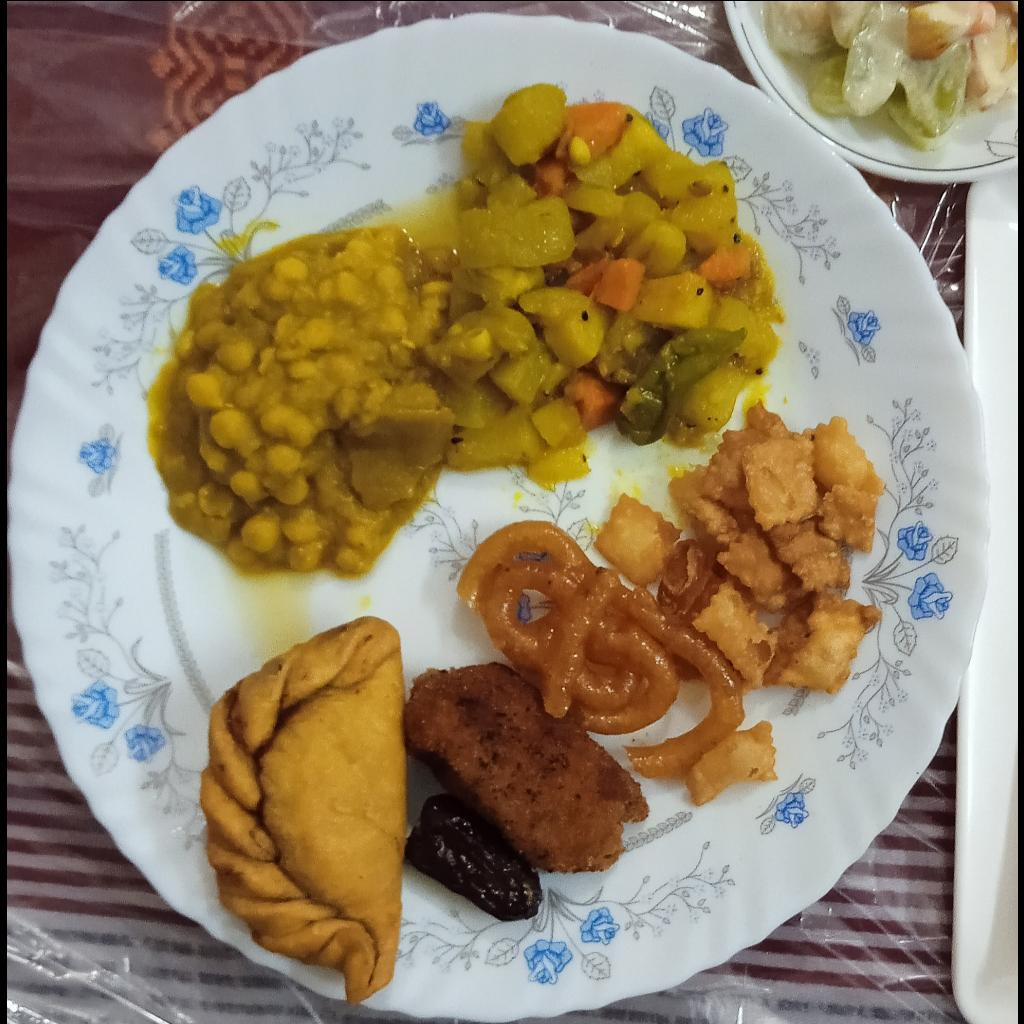chomchom: (593, 396, 885, 694)
chop-alu: (408, 662, 650, 873)
daal: (148, 224, 459, 580)
dates: (407, 792, 542, 924)
jilapi: (457, 520, 777, 806)
salad: (762, 0, 1017, 149)
sweets: (201, 615, 406, 1008)
vegetable: (426, 85, 778, 482)
